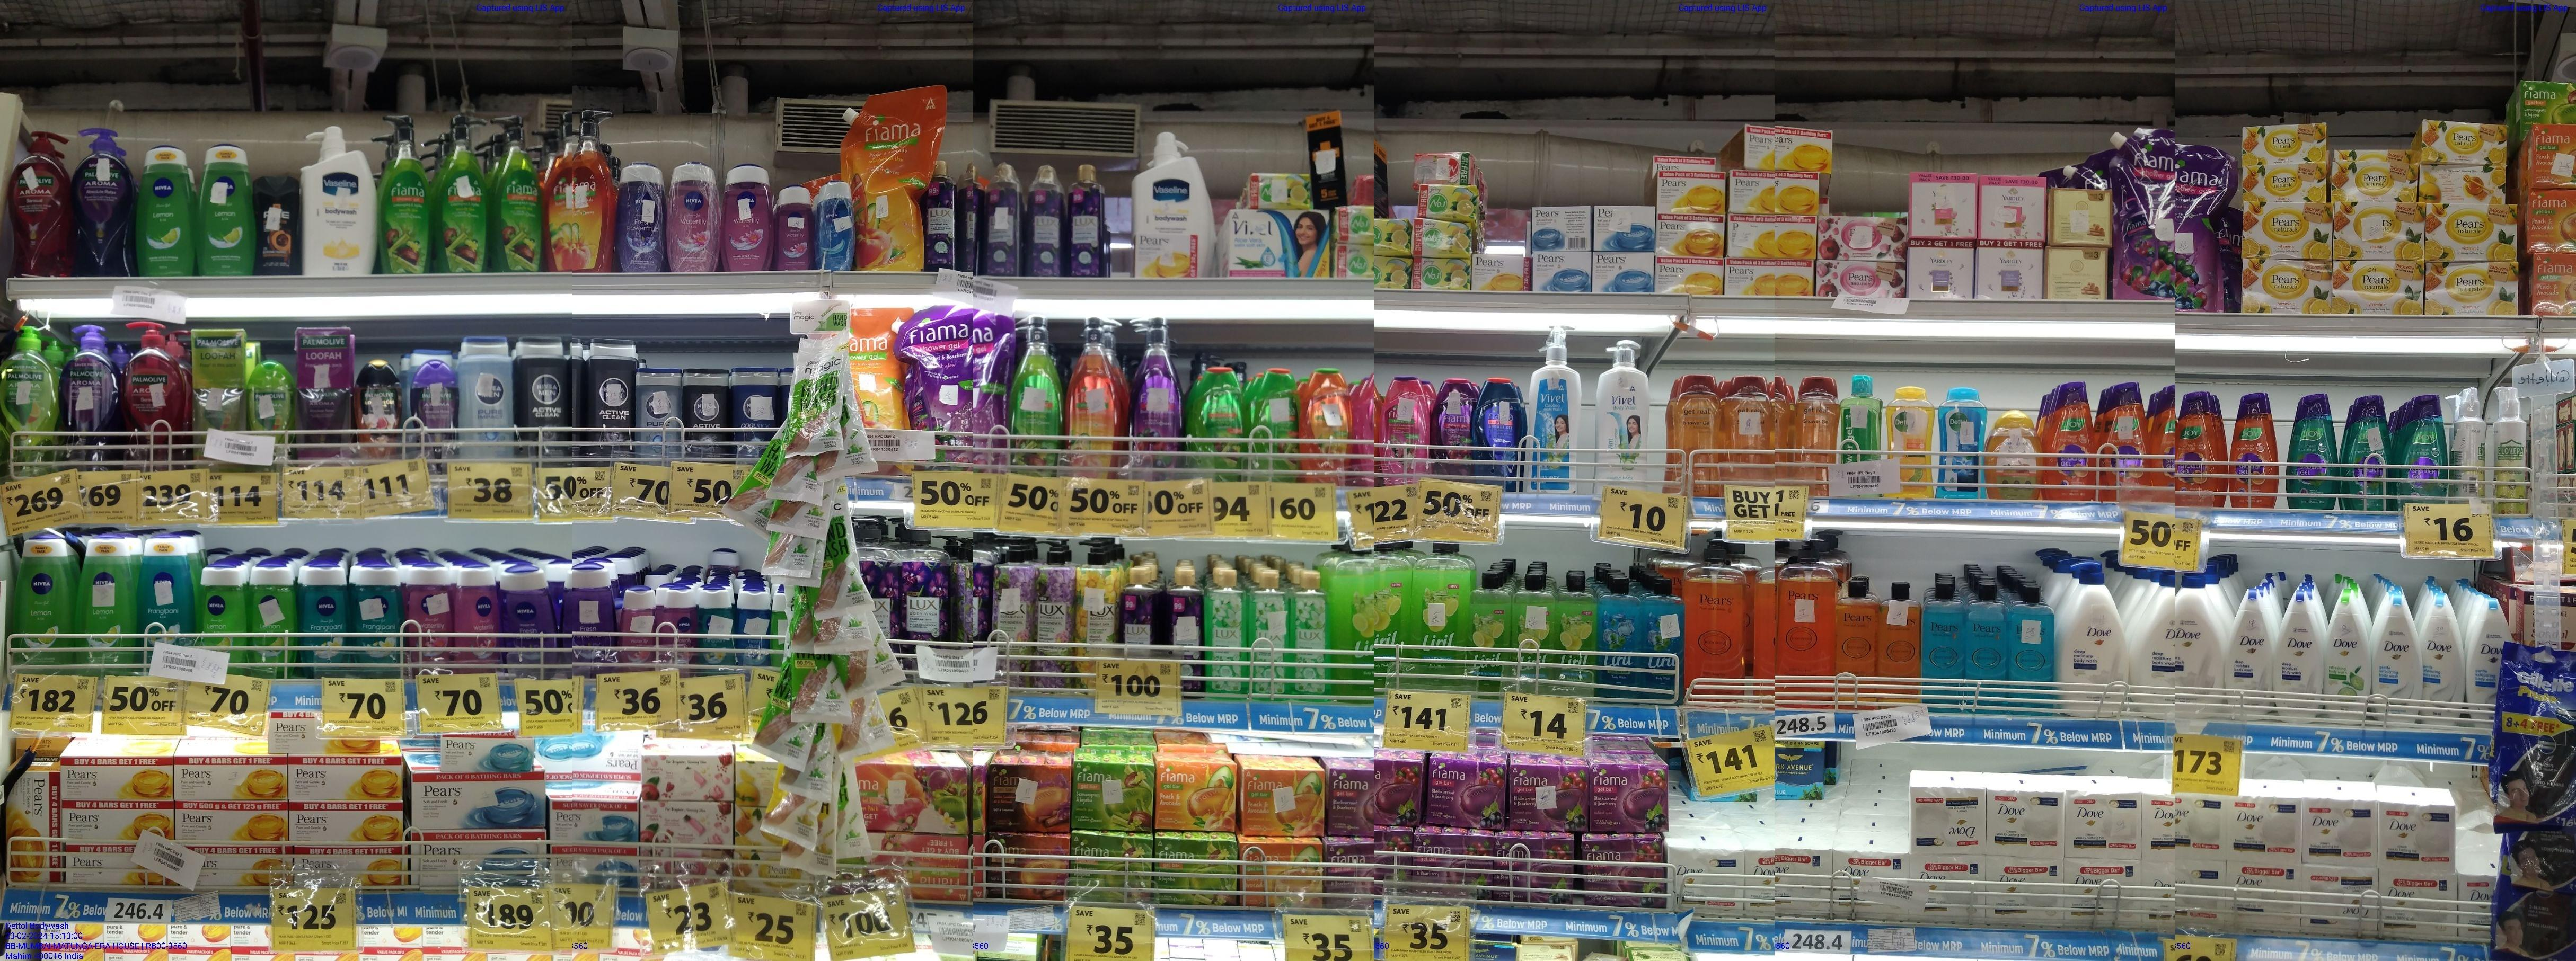Dettol_Bodywash_Cool: (1937, 388, 1986, 501)
Dettol_Bodywash_Refresh: (1884, 386, 1935, 499)
Dove_Deep_Moisture_Body_Wash_250ML: (2221, 590, 2274, 723), (2274, 586, 2321, 724)
Dove_Gentle_Exfoliating_Body_Wash_250ML: (2372, 590, 2420, 728), (2420, 591, 2466, 724)
Dove_Refreshing_Body_Wash_250ML: (2323, 585, 2369, 724)
Fiama_Shower_Gel_Patchouli_and_Macadamia_250ML: (1382, 376, 1433, 478)
Get_Real_Shower_Gel_Moisturising_Glycerin_300ML: (1674, 375, 1722, 498), (1723, 375, 1773, 483), (1789, 373, 1840, 465)
Joy_Shower_Gel_Mandarin_and_Lemongrass_250ML: (74, 536, 135, 670), (15, 536, 74, 672), (2104, 381, 2155, 503), (2228, 391, 2277, 509), (2045, 379, 2093, 501), (2177, 393, 2219, 506)
Joy_Shower_Gel_Mint_and_Eucalyptus_250ML: (2397, 396, 2451, 504), (2341, 396, 2390, 514), (2290, 394, 2336, 511)
Liril_Cooling_Mint_Body_Wash_250ML: (1595, 568, 1640, 700), (1643, 577, 1682, 698)
Liril_Lime_and_Tea_Tree_Oil_Body_Wash_250ML: (1511, 568, 1554, 690), (1470, 572, 1511, 695), (1552, 568, 1595, 680)
Lux_Black_Orchid_Scent_and_Juniper_Oil_Body_Wash_245ML: (1061, 163, 1099, 278), (1023, 161, 1060, 279), (984, 161, 1020, 276), (925, 159, 956, 269)
Lux_Body_Wash_Skin_Detox_Freesia_Scent_and_Alove_Vera_245ML: (1247, 572, 1290, 698), (1207, 572, 1247, 700), (1291, 568, 1331, 697)
Nivea_Shower_Gel_Frangipani_and_Oil_250ML: (140, 536, 195, 649)
Nivea_Shower_Gel_Fresh_Powerfruit_250ML: (618, 159, 664, 274)
Nivea_Shower_Gel_Lemon_and_Oil_250ML: (136, 145, 194, 279), (197, 141, 253, 276)
Nivea_Shower_Gel_Waterlily_and_Oil_250ML: (721, 163, 777, 274), (667, 159, 716, 271)
